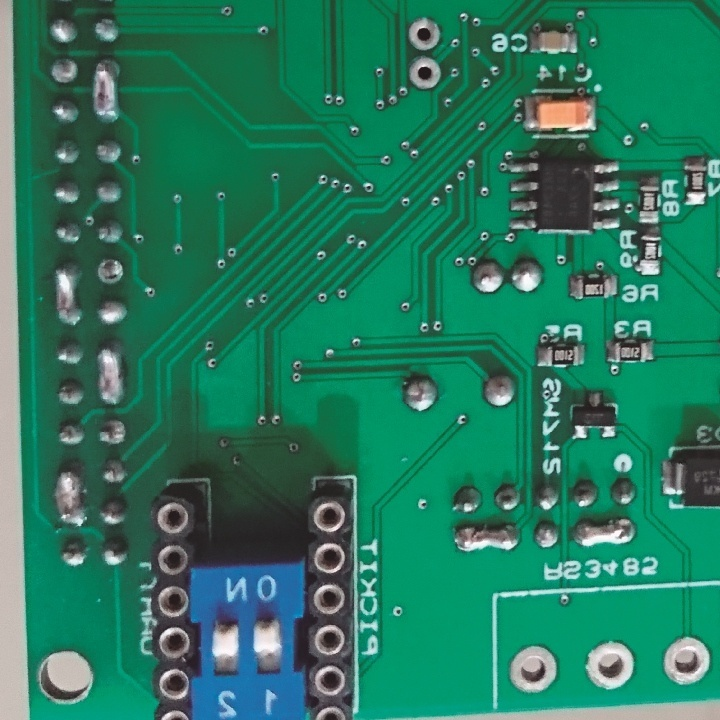F: (584, 635, 637, 693), (507, 642, 559, 695), (660, 634, 711, 686), (405, 17, 445, 51), (406, 54, 442, 90), (46, 55, 81, 86), (93, 256, 124, 289)
P: (91, 339, 127, 410), (50, 467, 87, 527), (90, 53, 123, 120), (456, 524, 520, 556), (53, 258, 79, 329), (575, 520, 636, 549)
